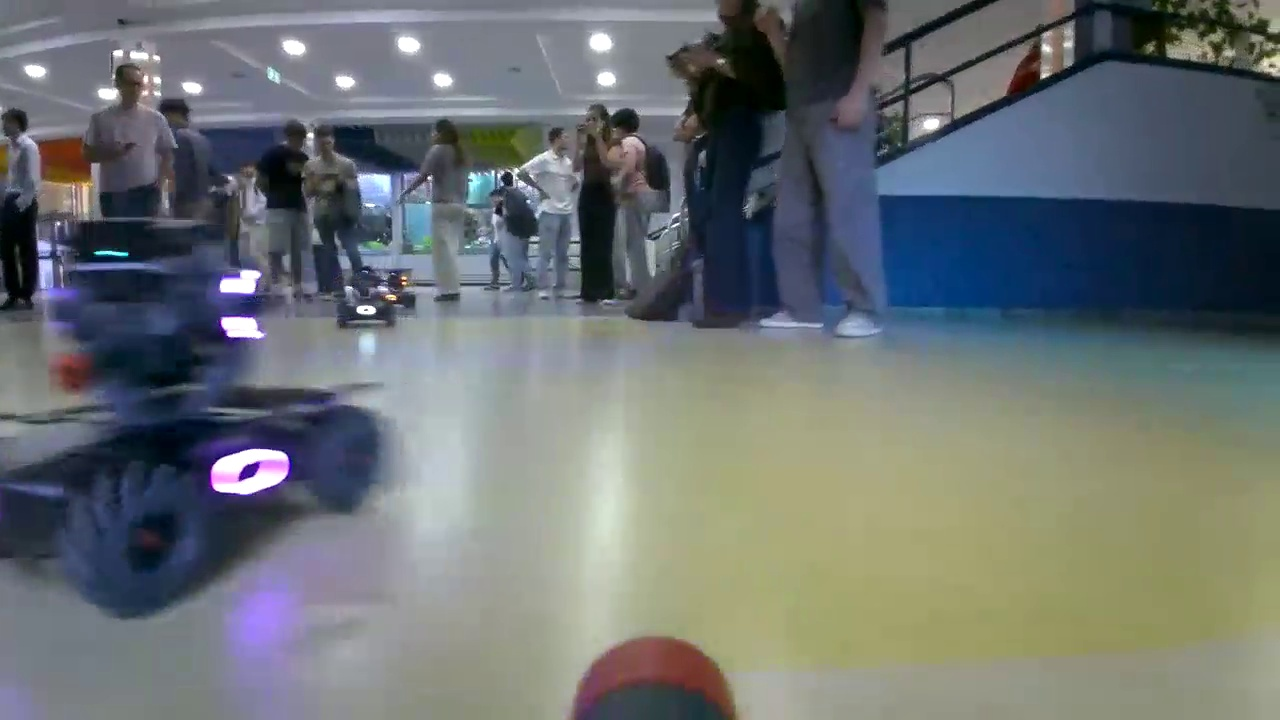robot: (1, 219, 387, 618), (337, 268, 396, 328), (384, 271, 416, 308)
